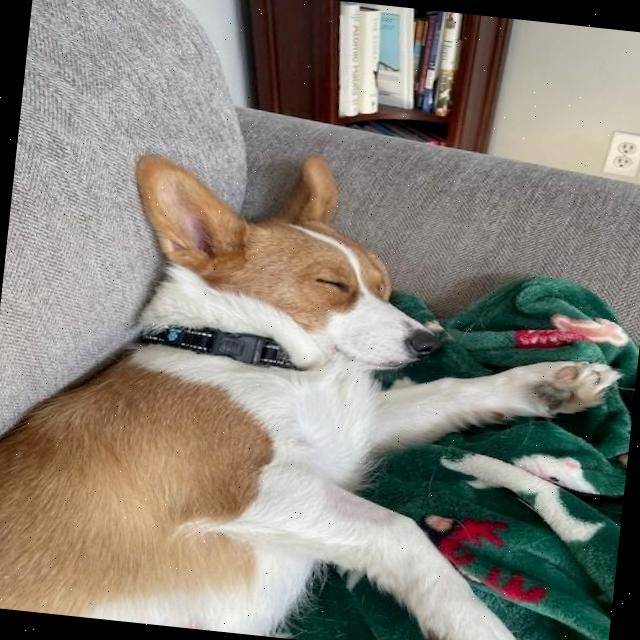corgi_dog: (89, 112, 485, 432)
